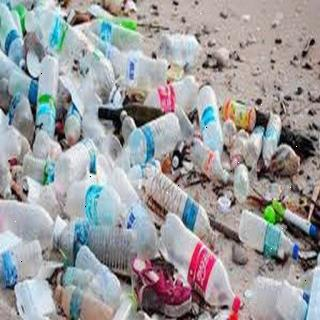Plastic-bottle: (157, 214, 244, 315), (147, 167, 217, 242), (58, 220, 140, 266), (238, 207, 301, 266), (33, 3, 90, 62), (124, 112, 182, 165), (249, 274, 314, 320), (66, 179, 127, 226), (113, 47, 173, 93), (141, 79, 206, 120), (33, 59, 63, 141), (55, 282, 117, 320), (198, 85, 227, 165), (86, 14, 145, 53), (56, 138, 100, 188), (1, 237, 43, 286), (1, 1, 30, 69), (263, 114, 284, 170)
